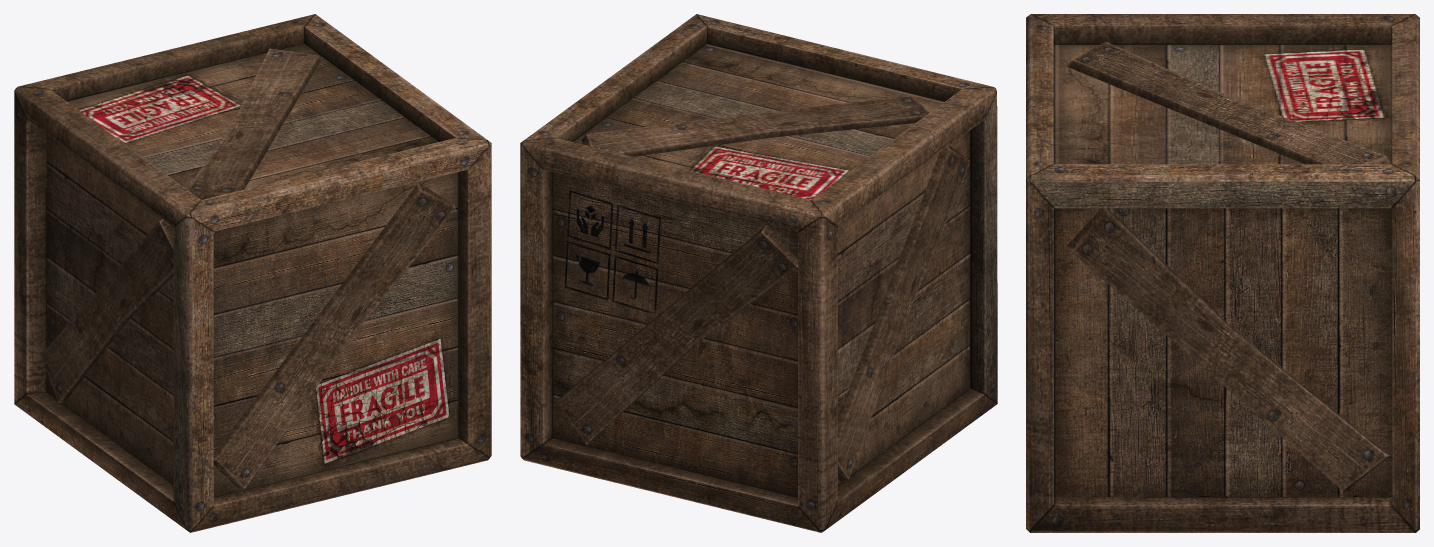
The model's file is BoxFragil.obj.
3 renders of one model, left to right at view 1: azimuth 30°, elevation 25°; view 2: azimuth 150°, elevation 25°; view 3: azimuth 270°, elevation 25°, orthographic. The views are drawn at different scales.
Parts seen in each view (by area): view 1: crate002; view 2: crate002; view 3: crate002.
Part boxes in pixels (x1,y1,x2,y2): crate002: (14,14,491,532); crate002: (520,14,997,532); crate002: (1026,14,1419,532).
Size of the model in its own units: 5.56 by 5.57 by 5.57.
1 material, 1 textured.
